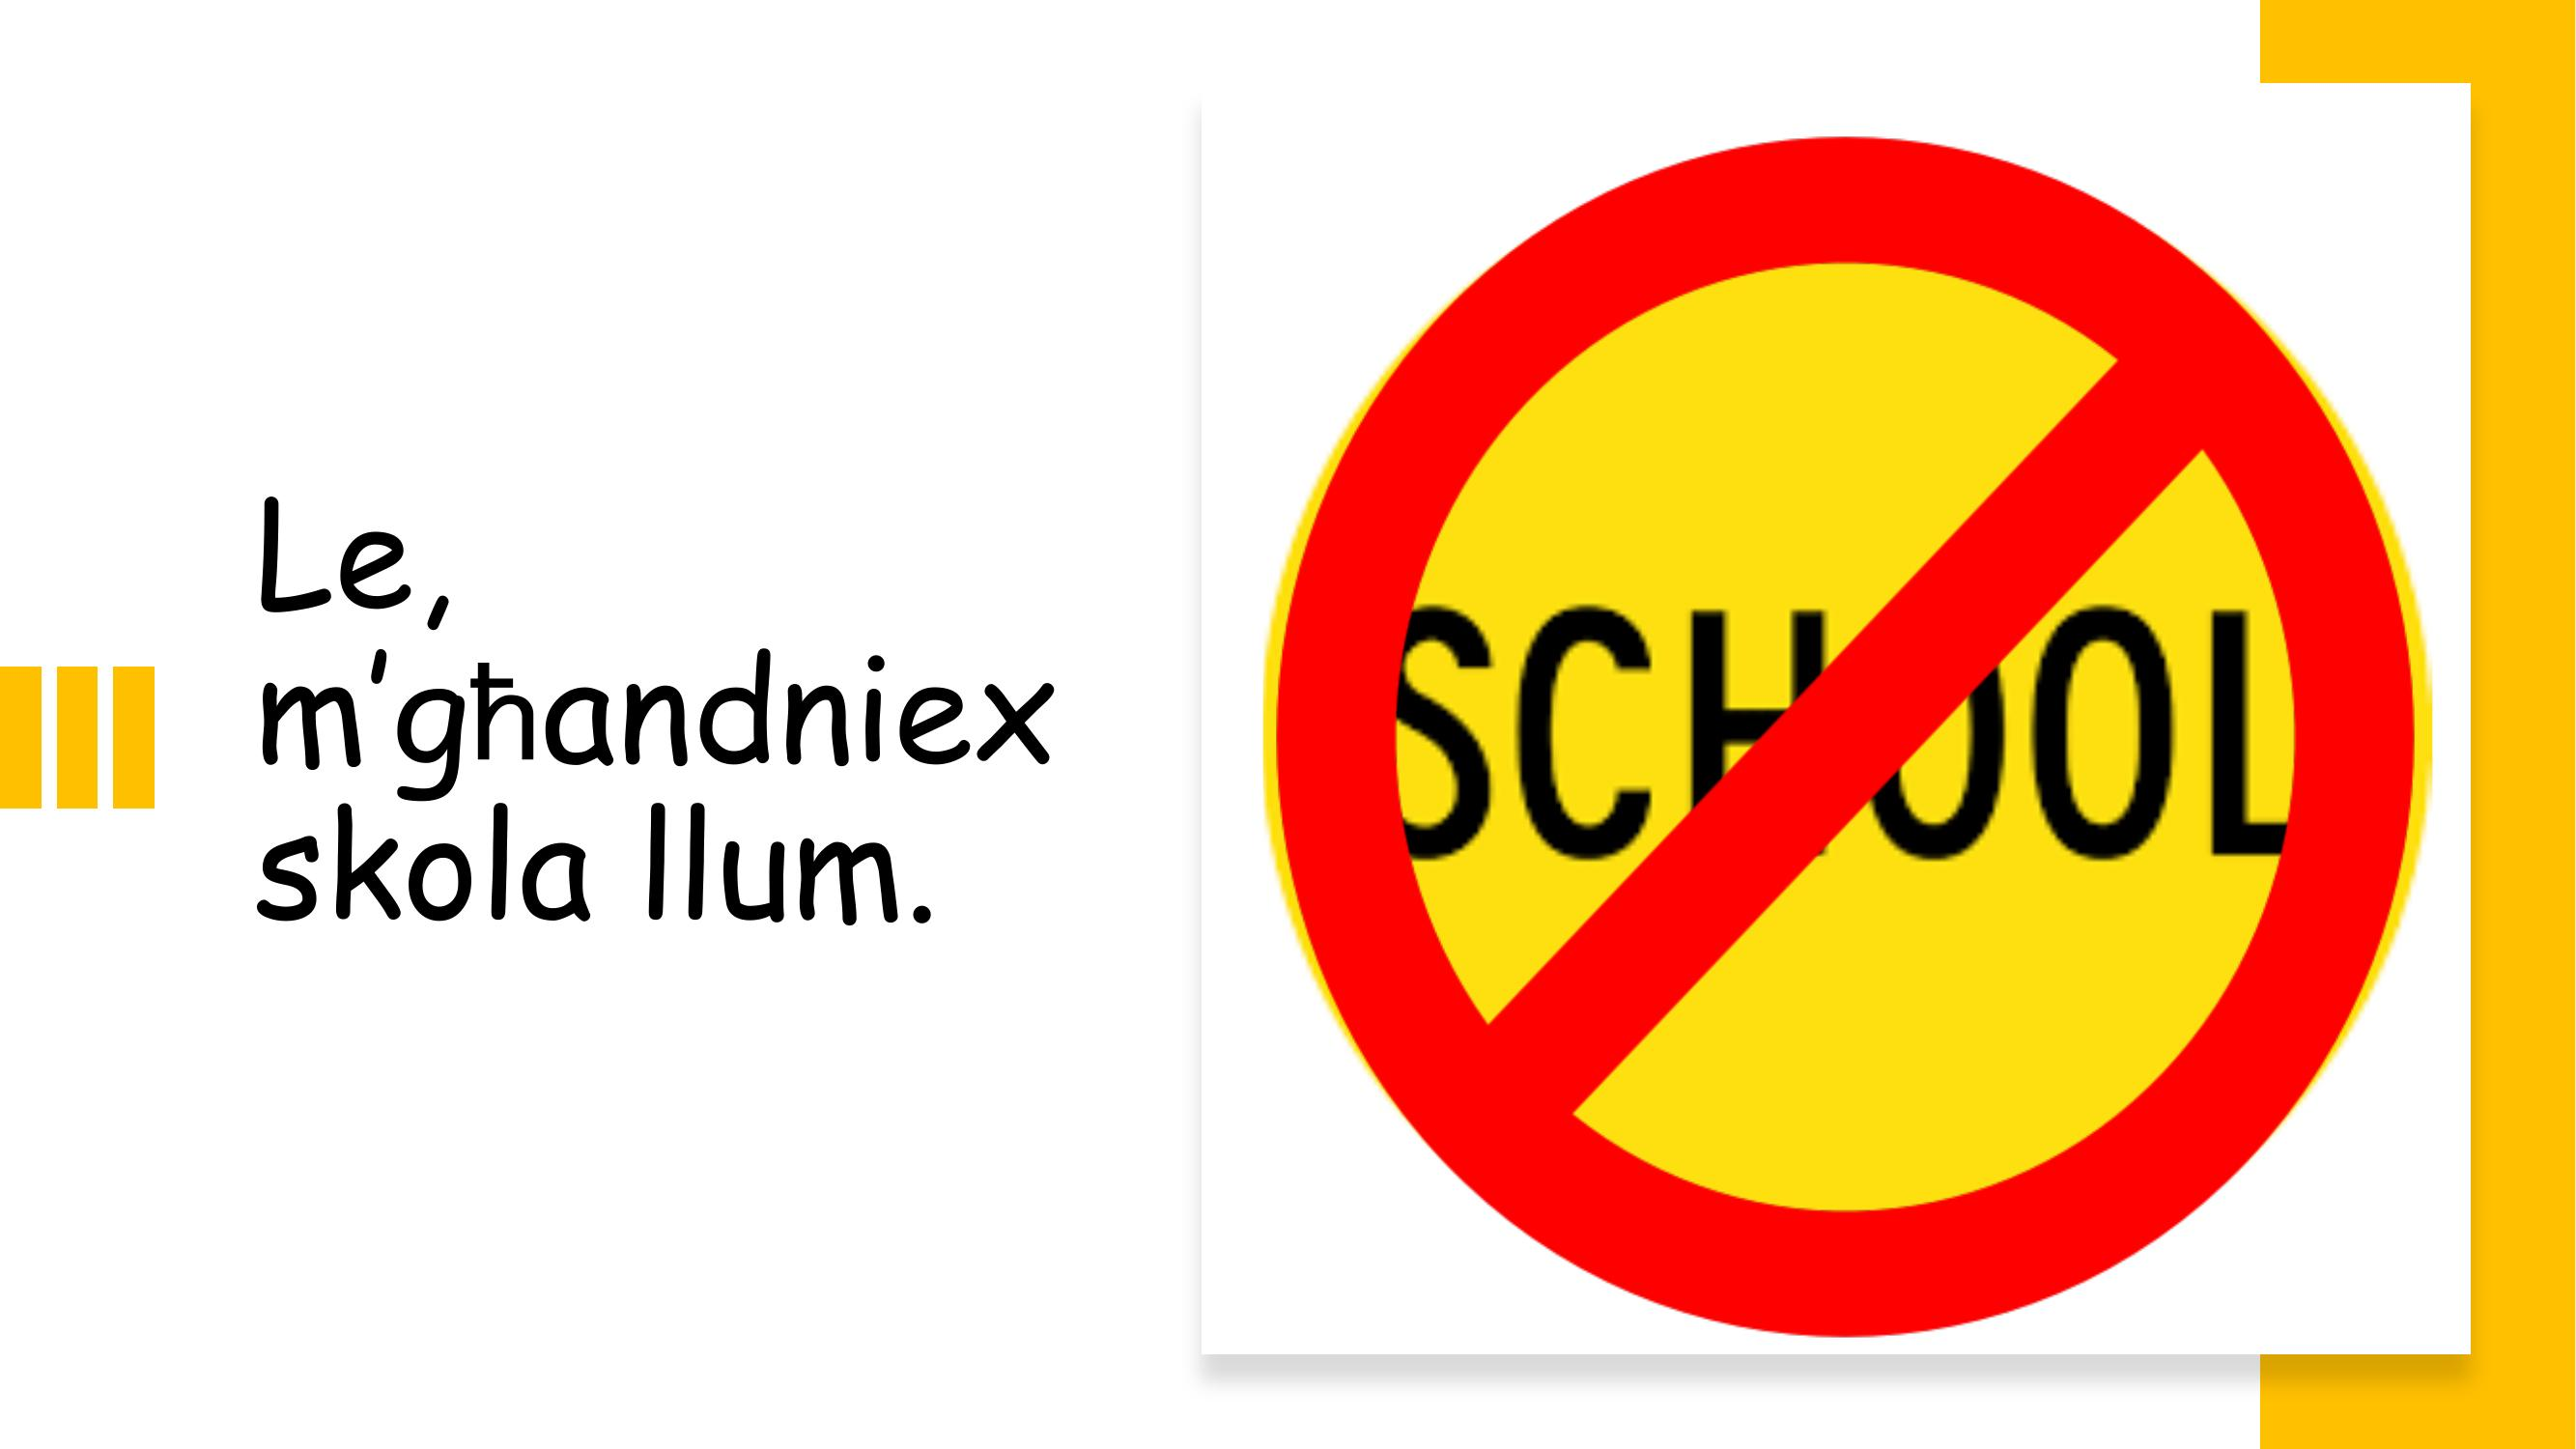text: (235, 479, 1069, 980)
